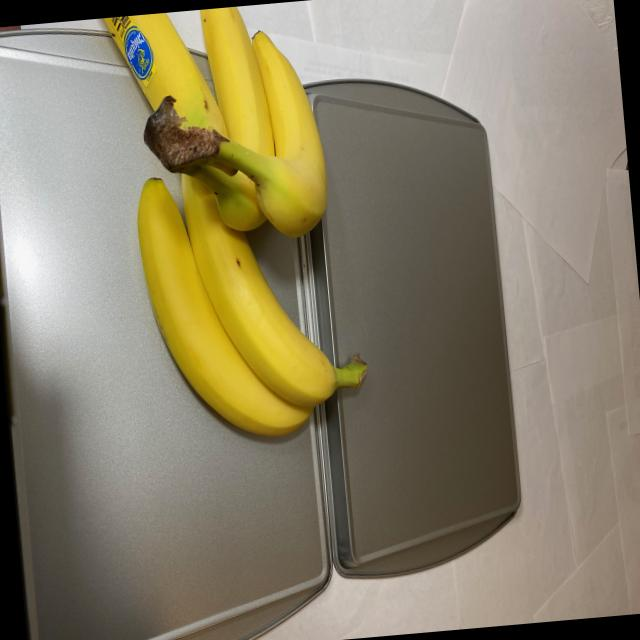banana: (82, 1, 378, 453)
